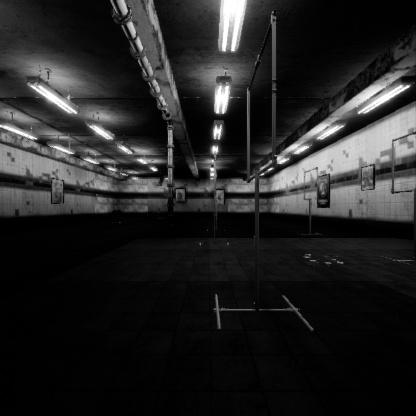gate: (251, 232, 283, 412), (392, 222, 416, 298), (304, 215, 319, 249), (215, 217, 217, 266), (216, 214, 217, 242)
